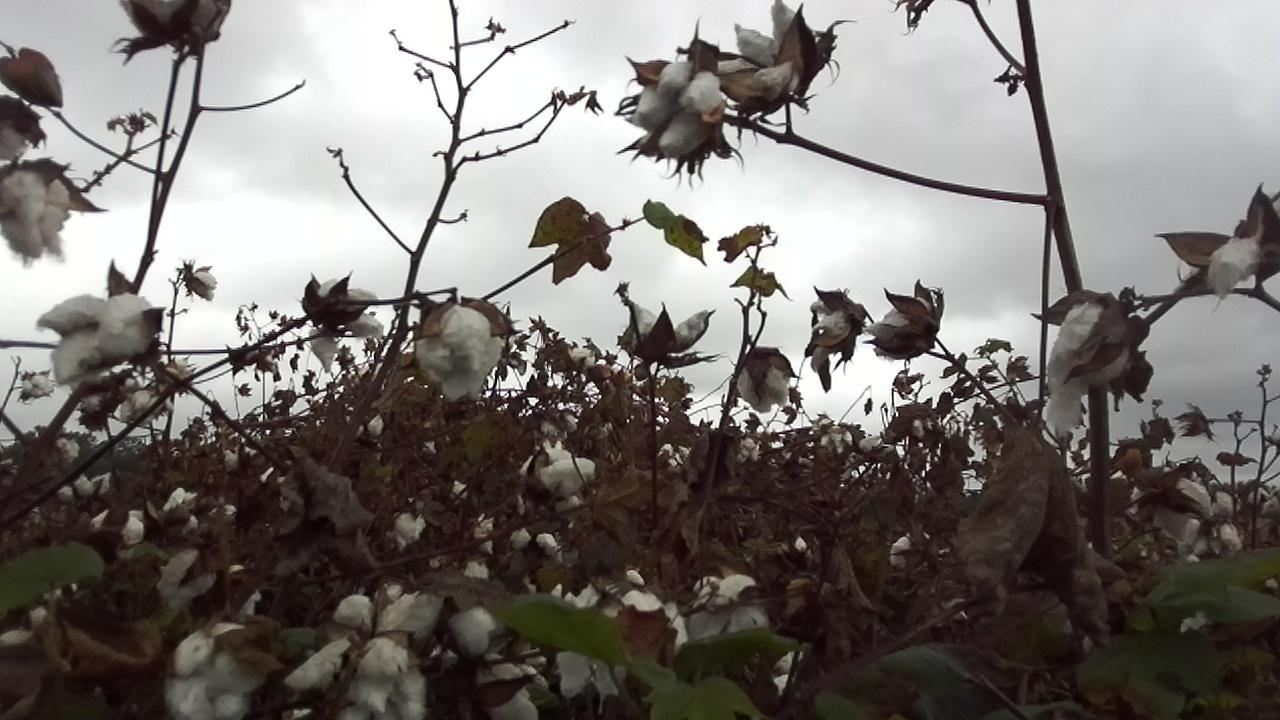cotton_ready: (285, 588, 440, 690), (1044, 296, 1128, 437), (714, 0, 815, 110), (36, 292, 155, 385), (164, 622, 263, 720), (632, 62, 725, 159), (416, 306, 502, 402), (312, 279, 389, 374), (1156, 478, 1240, 560), (0, 175, 69, 271), (688, 574, 769, 641), (555, 647, 634, 712), (869, 287, 941, 356), (153, 545, 222, 615), (473, 654, 545, 720), (1209, 226, 1274, 299), (628, 303, 721, 353), (328, 676, 429, 720), (122, 0, 233, 40), (734, 354, 791, 413), (810, 304, 854, 374), (533, 447, 597, 495), (449, 605, 502, 655), (0, 99, 38, 161)
